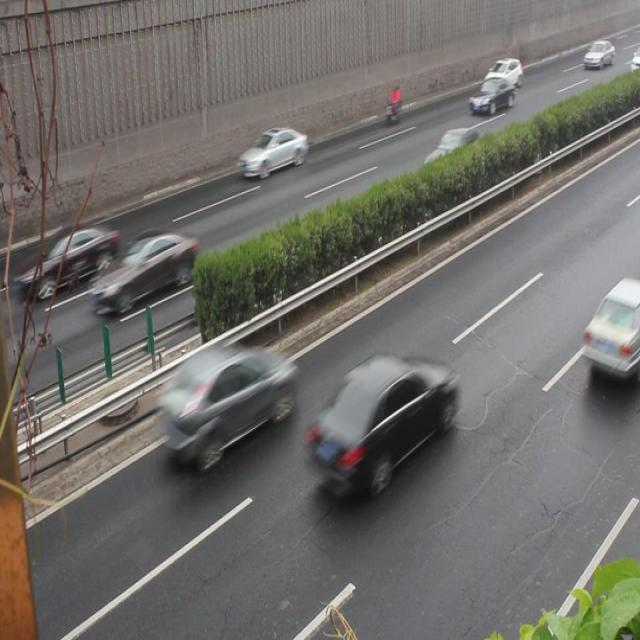car: (310, 356, 455, 490), (160, 336, 298, 459), (91, 229, 198, 311), (29, 224, 119, 296), (580, 279, 640, 375), (240, 126, 308, 179), (420, 128, 484, 184), (468, 77, 514, 117), (484, 58, 521, 90)
